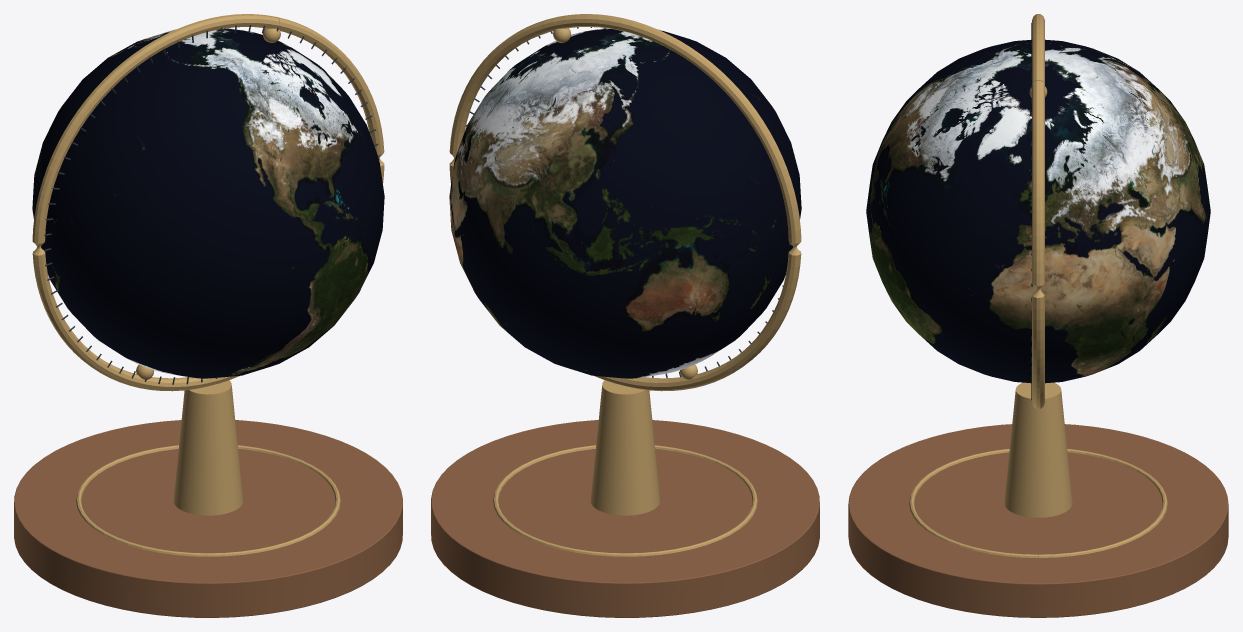
Rendered from library-rotating-globe.glb.
The picture shows the model from 3 angles, left to right: view 1: azimuth 30°, elevation 25°; view 2: azimuth 150°, elevation 25°; view 3: azimuth 270°, elevation 25°; orthographic projection. The views are drawn at different scales.
Visible parts, largest first — view 1: rotating Earth, catalog_surface_RealismUV; view 2: rotating Earth, catalog_surface_RealismUV; view 3: rotating Earth, catalog_surface_RealismUV.
Part boxes in pixels (x1,y1,x2,y2): rotating Earth: (32, 28, 384, 378); catalog_surface_RealismUV: (14, 14, 402, 617); rotating Earth: (449, 28, 801, 378); catalog_surface_RealismUV: (431, 14, 819, 617); rotating Earth: (866, 39, 1210, 383); catalog_surface_RealismUV: (848, 14, 1228, 617).
Bounding box in the file's own units: 0.312 × 0.44 × 0.3.
4 materials, 1 textured.
